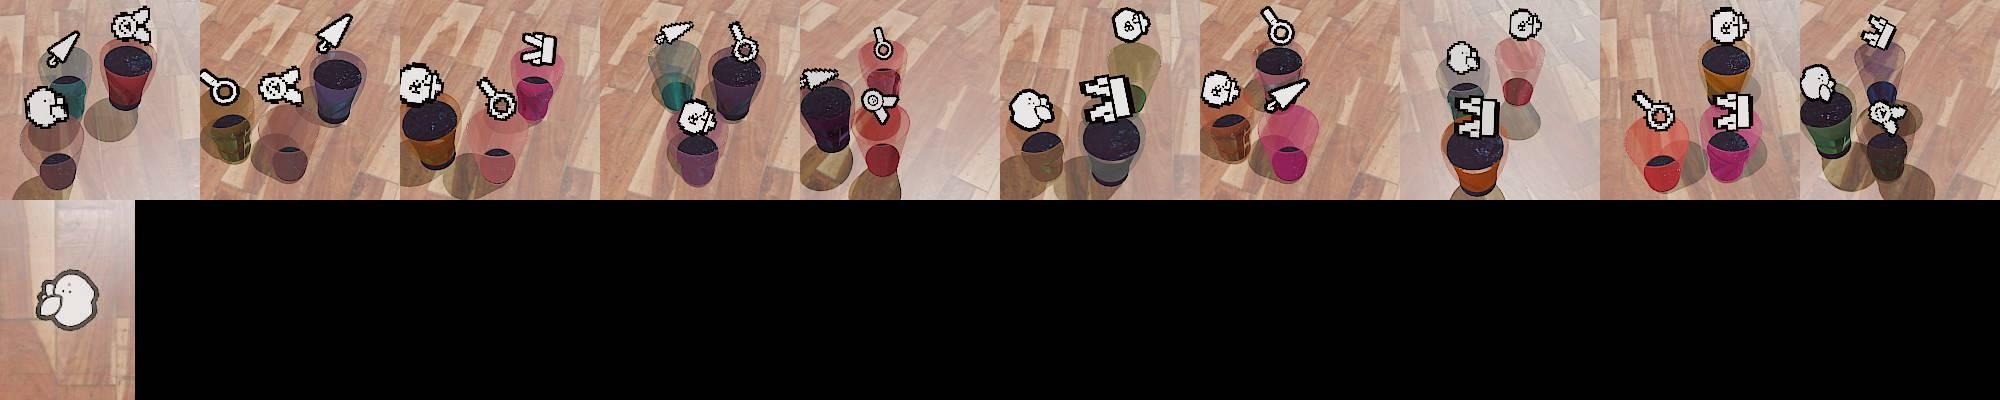icon: (33, 269, 99, 331), (1078, 71, 1136, 122), (23, 84, 73, 129), (397, 60, 444, 106), (1008, 88, 1056, 131), (477, 75, 519, 124), (1457, 94, 1500, 140), (258, 65, 305, 107), (1712, 89, 1754, 132), (1264, 78, 1312, 115), (1633, 89, 1675, 131), (199, 68, 242, 107), (110, 5, 153, 45), (315, 13, 353, 55), (677, 97, 717, 136), (1798, 64, 1838, 103), (1867, 97, 1908, 135), (1709, 6, 1750, 45), (520, 29, 560, 66), (1111, 6, 1151, 43), (727, 20, 761, 62), (1260, 5, 1295, 47), (1861, 13, 1898, 51), (1202, 70, 1240, 107), (860, 87, 898, 124), (43, 31, 80, 69), (1445, 41, 1481, 76), (1509, 8, 1542, 41), (654, 20, 695, 47), (798, 66, 839, 90), (871, 25, 894, 61)
